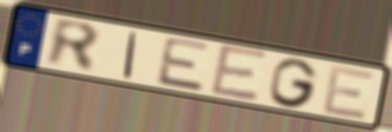E: (208, 41, 271, 104), (154, 35, 214, 94), (319, 64, 377, 123)
G: (267, 57, 321, 109)
I: (120, 29, 140, 81)
R: (45, 15, 103, 76)
